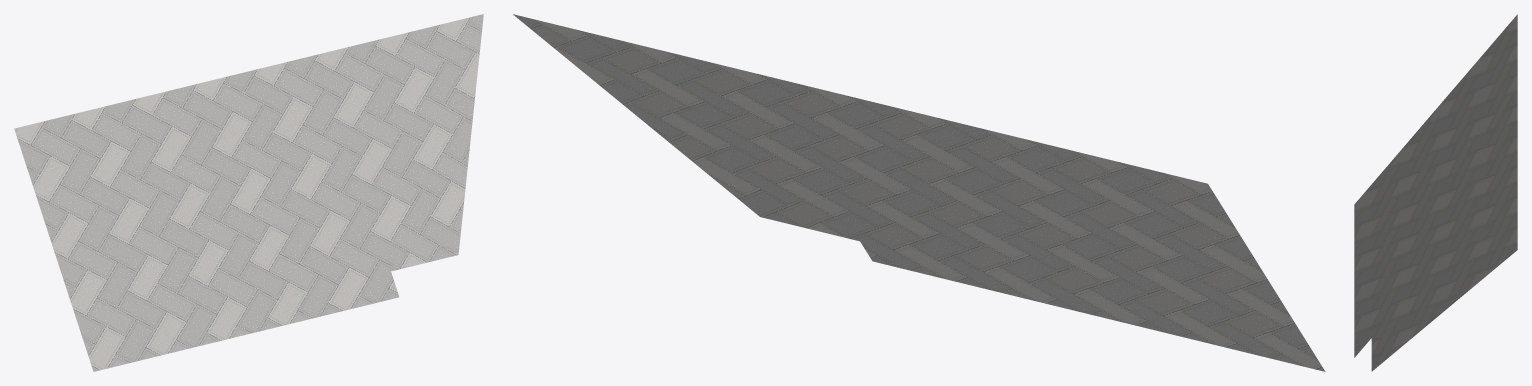
File: kd_stage_135ded_3_13_exterior.glb
3 views of the same model, side by side, from view 1: azimuth 30°, elevation 25°; view 2: azimuth 150°, elevation 25°; view 3: azimuth 270°, elevation 25° (orthographic). The views are drawn at different scales.
Visible parts, largest first — view 1: kd_stage_135ded_3_13_exterior; view 2: kd_stage_135ded_3_13_exterior; view 3: kd_stage_135ded_3_13_exterior.
Part boxes in pixels (bbox=[...]): kd_stage_135ded_3_13_exterior: bbox=[14, 14, 483, 371]; kd_stage_135ded_3_13_exterior: bbox=[513, 14, 1325, 371]; kd_stage_135ded_3_13_exterior: bbox=[1354, 14, 1517, 371].
Bounding box in the file's own units: 8.31 × 3.13 × 2.44.
1 material, 1 textured.
